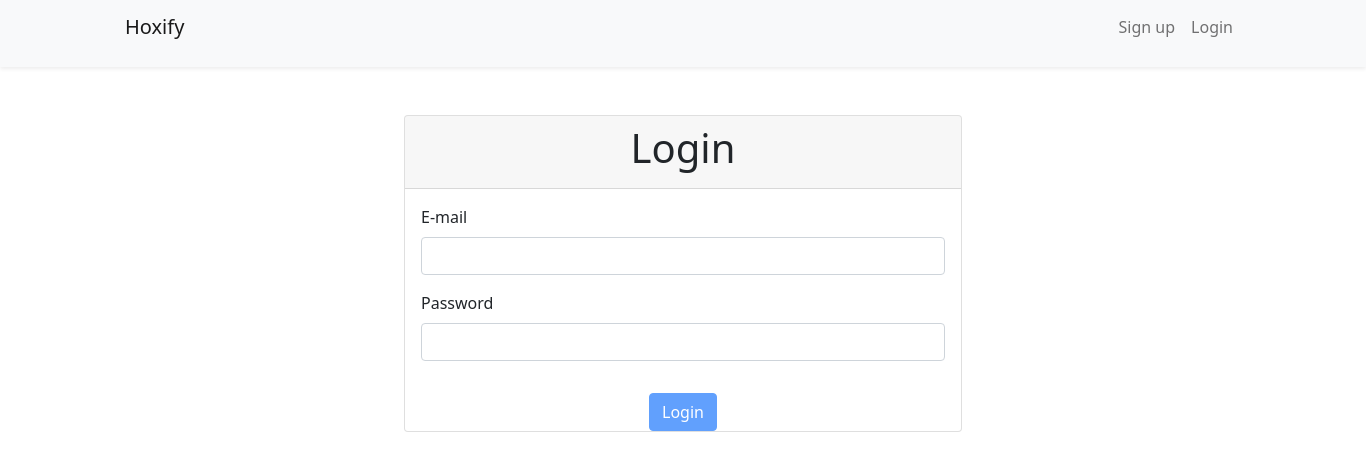
Login › displays My Profile link on navbar afer successful login
Expected: the link "My Profile" is not shown
Type "user5@mail.com" into the field labelled "E-mail" at point(683, 256), box left=421, top=237, right=945, bottom=275
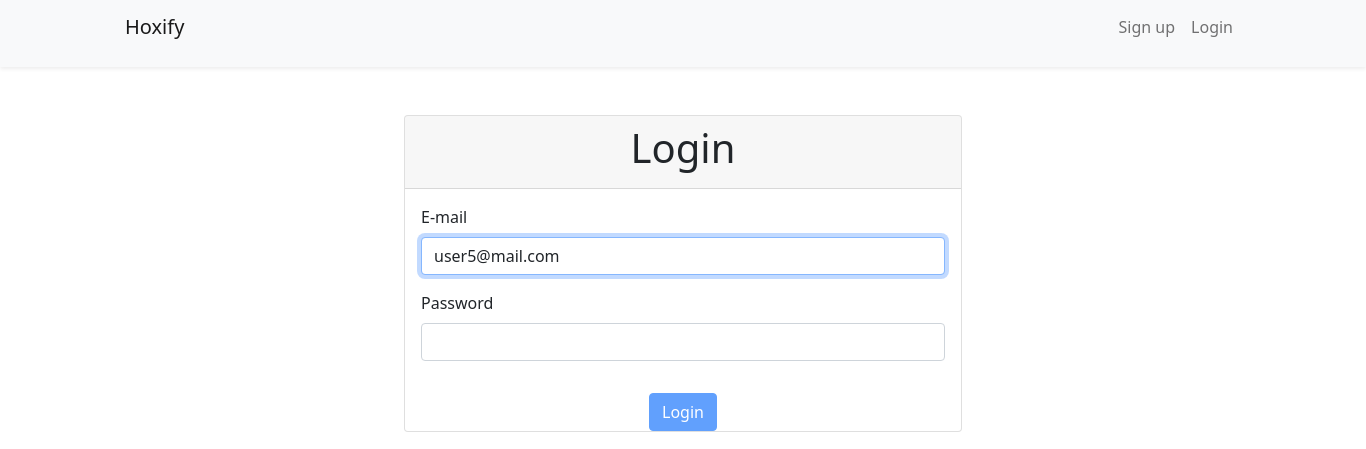
Type "P4ssword" into the password field labelled "Password" at point(683, 342), box left=421, top=323, right=945, bottom=361
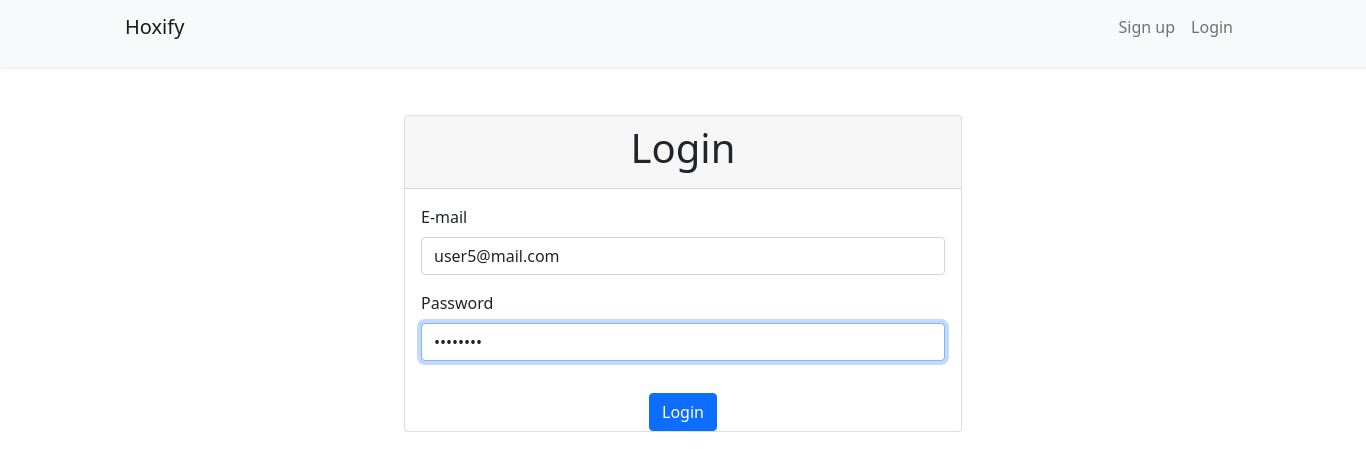
Click the button "Login" at point(683, 412), box left=649, top=393, right=717, bottom=431
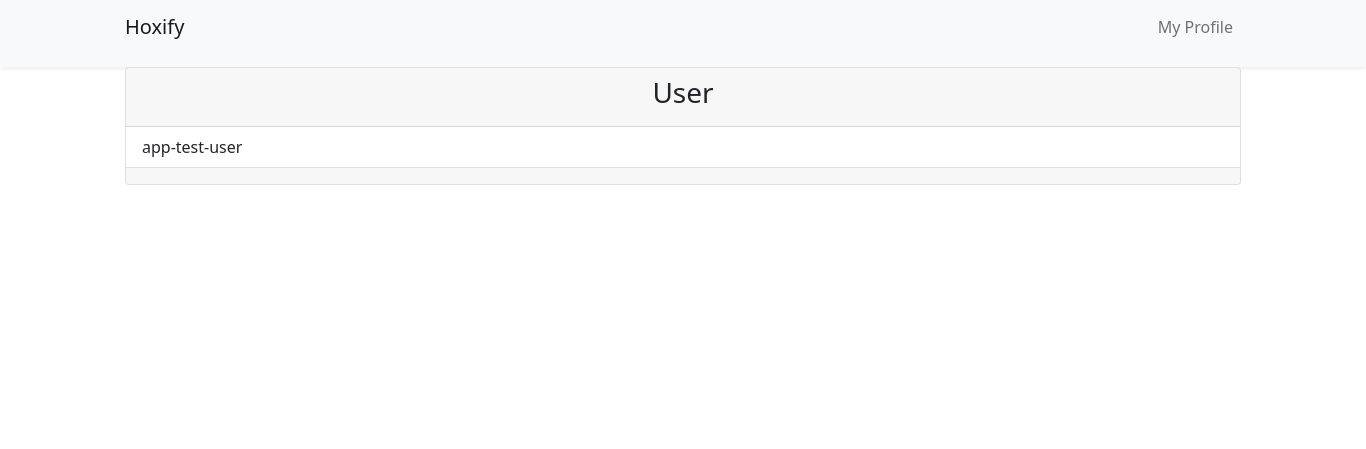
Result: the element with test id "home-page" is shown at left=125, top=67, right=1241, bottom=185
Result: the link "My Profile" is shown at left=1158, top=16, right=1233, bottom=38
